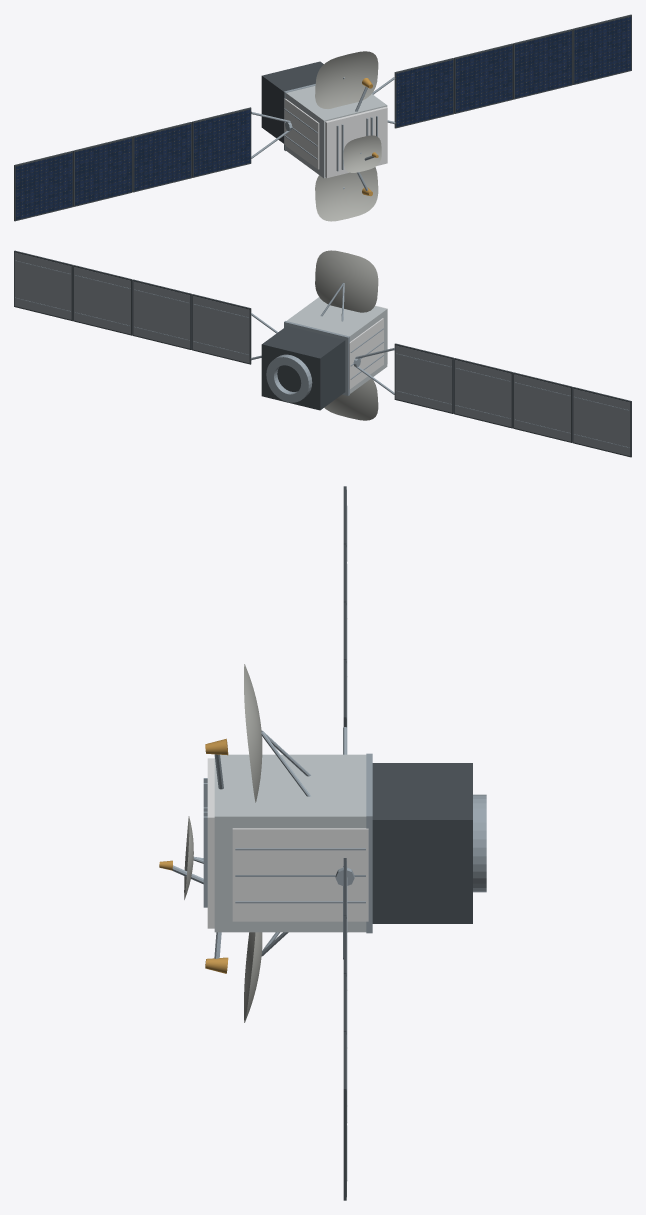
The model's file is ref-osc-star-2-4-29495.glb.
The picture shows the model from 3 angles, top to bottom: view 1: azimuth 30°, elevation 25°; view 2: azimuth 150°, elevation 25°; view 3: azimuth 270°, elevation 25°; orthographic projection. The views are drawn at different scales.
Parts seen in each view (by area): view 1: Solar cell panel (×8), Communications reflector (×2), Solar panel frame (×8), Earth-facing deck, Service module, Payload module, Radiator face, Deck-mounted reflector; view 2: Rear array substrate (×8), Service module, Communications reflector (×2), Solar panel frame (×8), Payload module, Radiator face, Launch adapter ring, Module interface; view 3: Service module, Payload module, Radiator face, Communications reflector (×2), Launch adapter ring, Earth-facing deck, Module interface.
Part boxes in pixels (x1,y1,x2,y2): Solar cell panel (×8): [15, 16, 631, 219]; Communications reflector (×2): [315, 51, 378, 221]; Solar panel frame (×8): [14, 14, 631, 221]; Earth-facing deck: [325, 107, 387, 177]; Service module: [261, 61, 323, 143]; Payload module: [286, 86, 387, 178]; Radiator face: [284, 98, 319, 169]; Deck-mounted reflector: [343, 135, 381, 172]; Rear array substrate (×8): [14, 252, 630, 455]; Service module: [261, 326, 345, 410]; Communications reflector (×2): [315, 250, 378, 420]; Solar panel frame (×8): [14, 250, 631, 457]; Payload module: [287, 297, 387, 393]; Radiator face: [349, 318, 383, 389]; Launch adapter ring: [266, 354, 312, 402]; Module interface: [284, 321, 349, 395]; Service module: [372, 763, 472, 923]; Payload module: [214, 754, 366, 932]; Radiator face: [232, 828, 368, 921]; Communications reflector (×2): [244, 664, 262, 1022]; Launch adapter ring: [473, 794, 486, 892]; Earth-facing deck: [207, 758, 214, 928]; Module interface: [366, 753, 372, 933].
Bounding box in the file's own units: 22.38 × 5.7 × 5.14.
8 materials, 1 textured.
